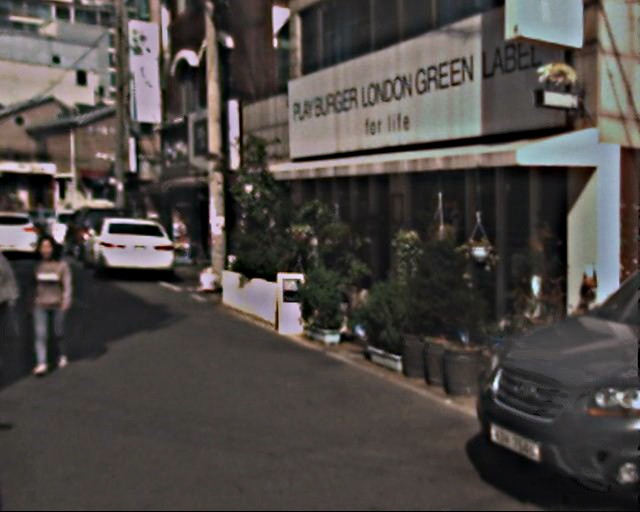person: (16, 230, 88, 378)
